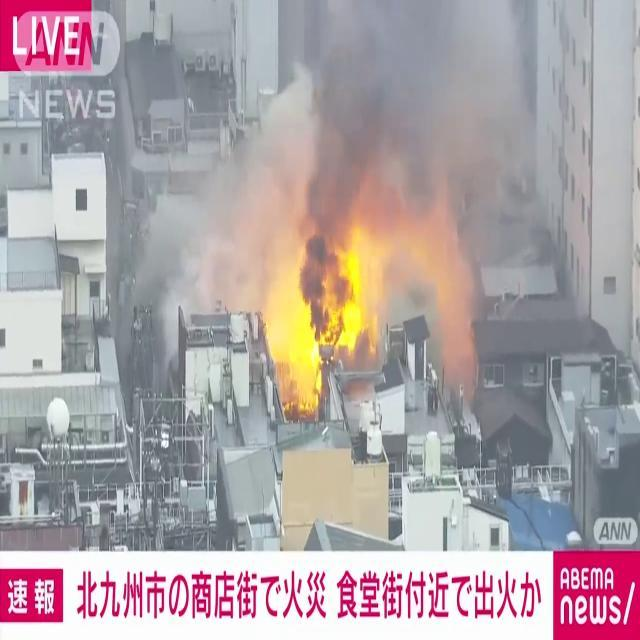Fire: (260, 194, 482, 406), (264, 212, 374, 410)
Smoke: (271, 1, 555, 236)
